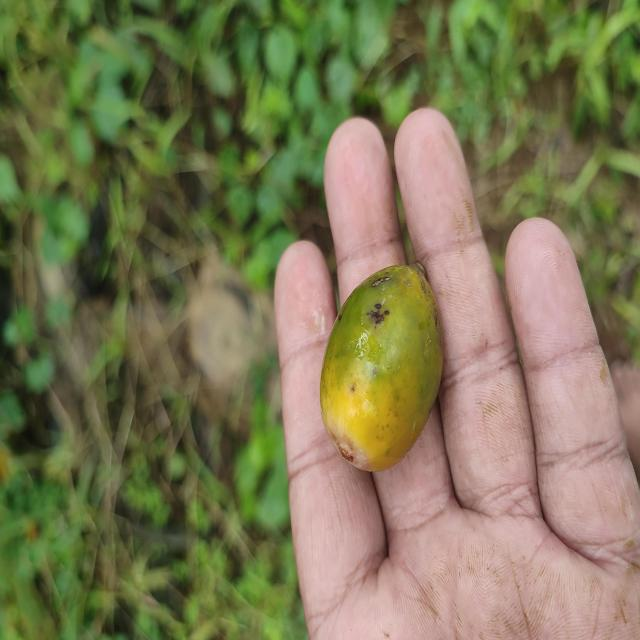good: (318, 264, 445, 475)
